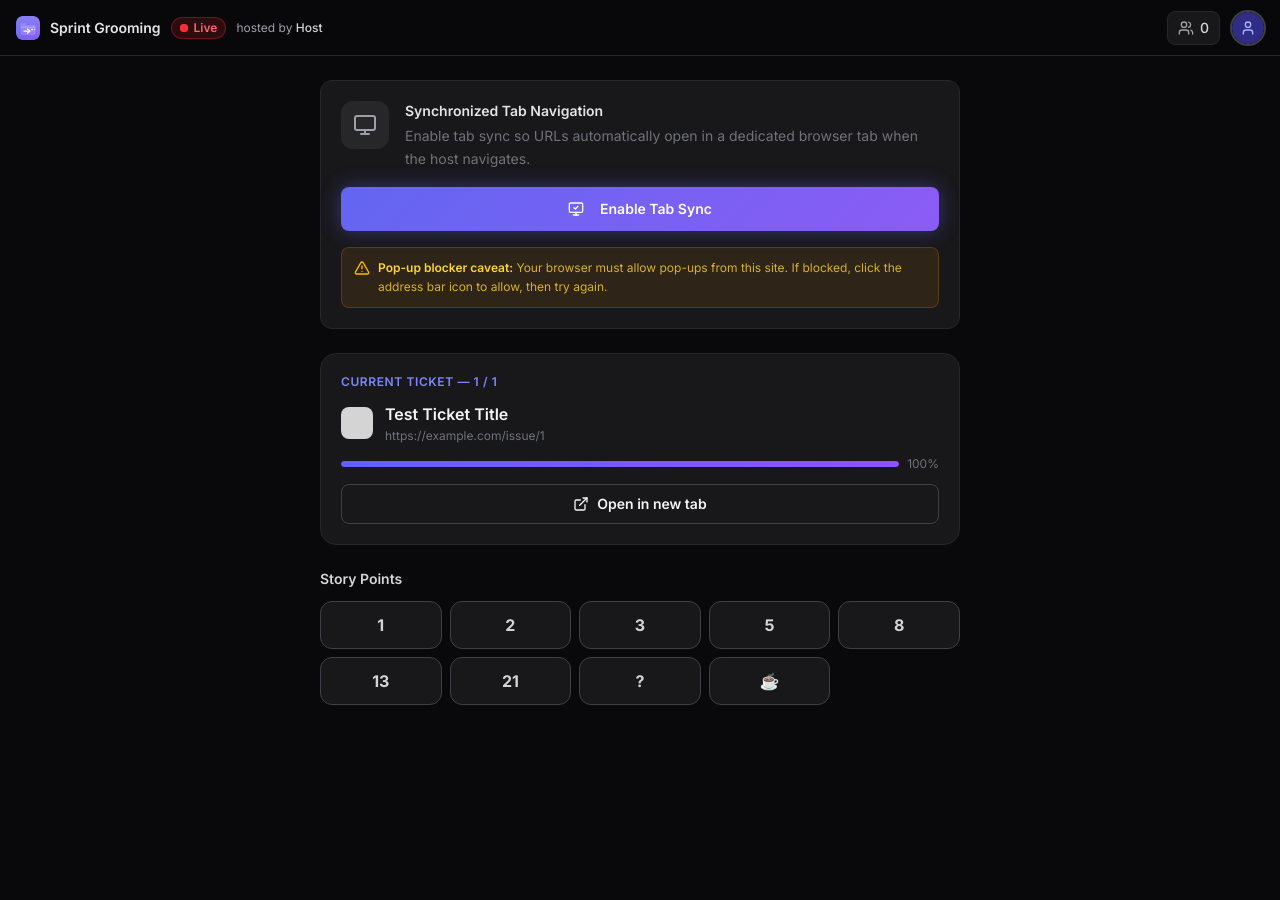
Test: ParticipantView — voting UI › shows "You voted" badge after voting
What coordinates should you click on to do the following:
click the button "8"
I would click on:
 (899, 624)
Its box is top-left (838, 600), bottom-right (960, 648).
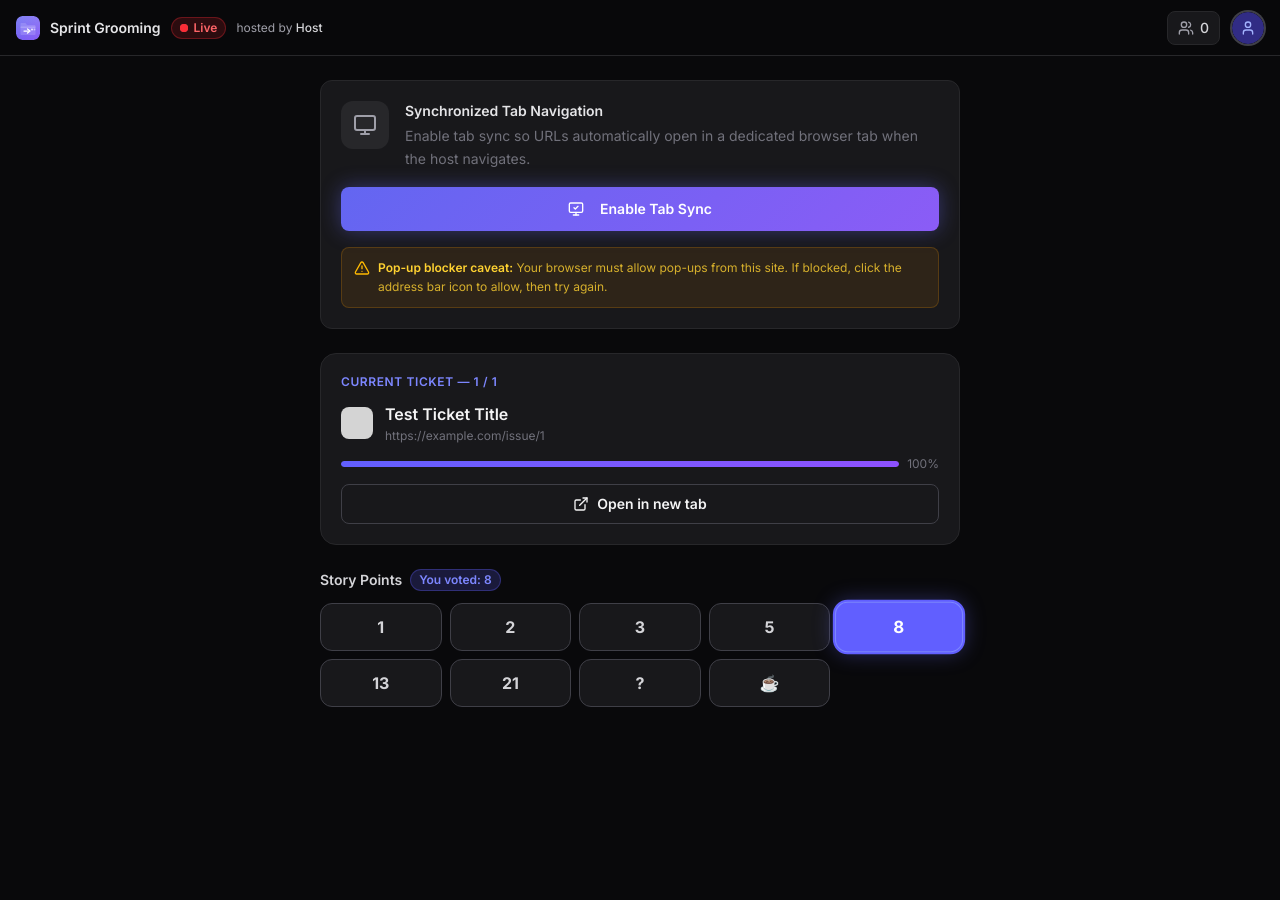
Now the text "You voted: 8" is shown, box top-left (410, 568), bottom-right (501, 590)
